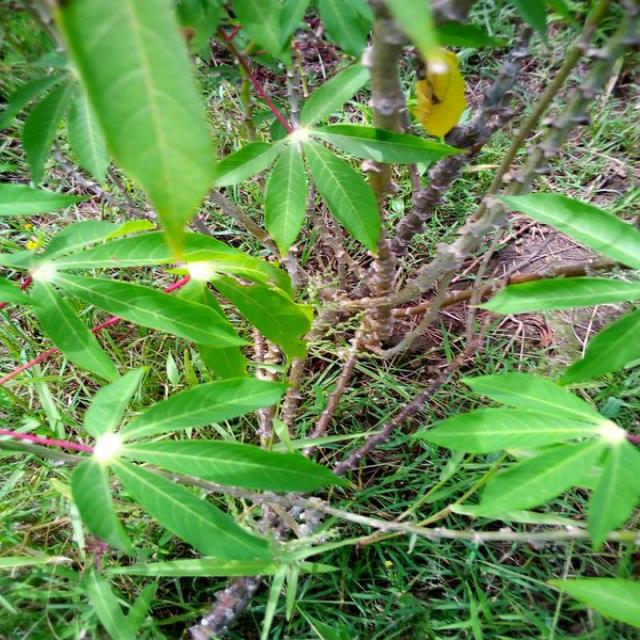cassava leaf: (54, 0, 217, 257), (414, 369, 638, 549), (303, 136, 382, 255)
